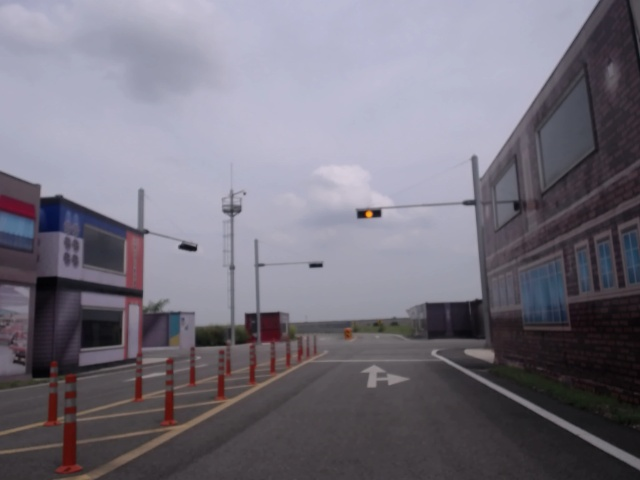orange_3: (357, 208, 382, 218)
